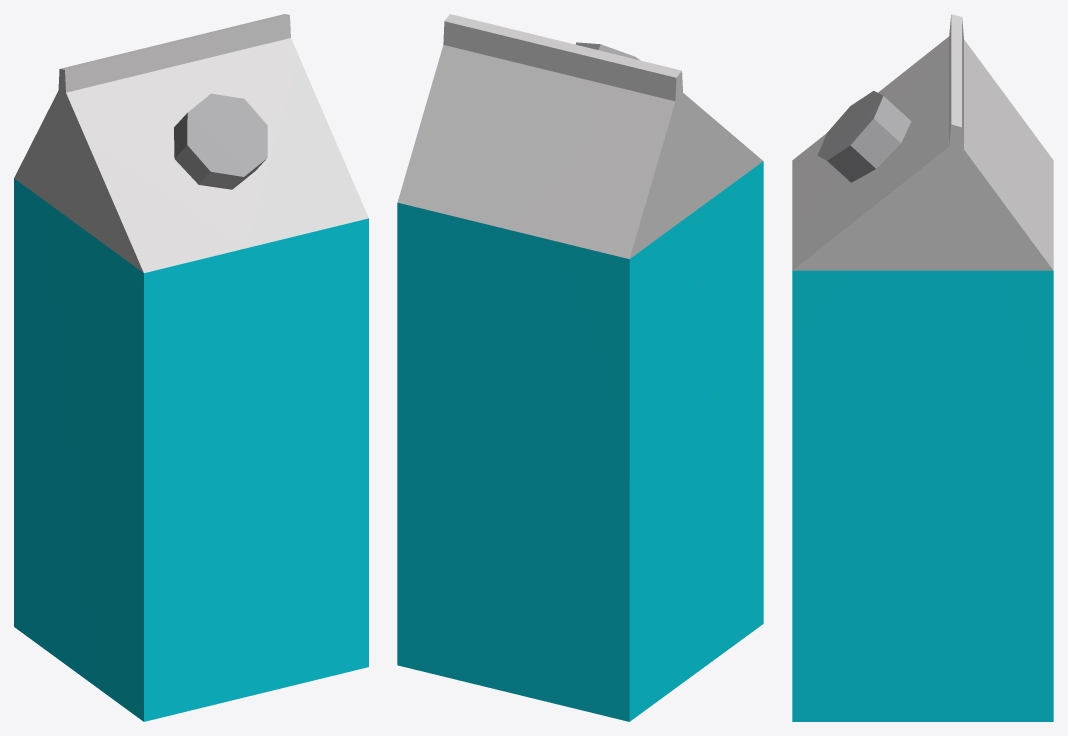
File: milk.fbx
3 renders of one model, left to right at view 1: azimuth 30°, elevation 25°; view 2: azimuth 150°, elevation 25°; view 3: azimuth 270°, elevation 25°, orthographic. The views are drawn at different scales.
Visible parts, largest first — view 1: milk; view 2: milk; view 3: milk.
Part boxes in pixels (x1=…): milk: x1=14, y1=14, x2=368, y2=721; milk: x1=397, y1=14, x2=763, y2=721; milk: x1=792, y1=14, x2=1053, y2=721.
Size of the model in its own units: 356 by 899 by 356.
